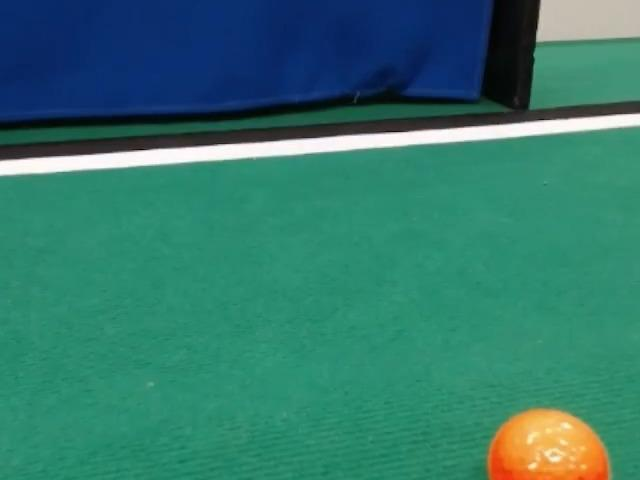Ball: (488, 409, 610, 479)
